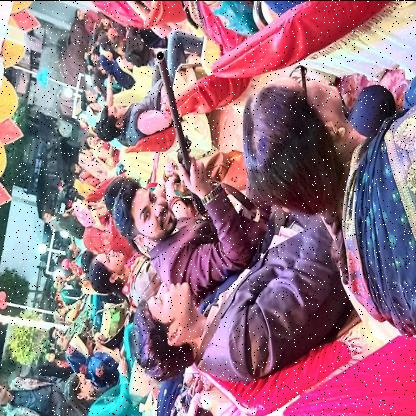rifle: (154, 48, 217, 222)
